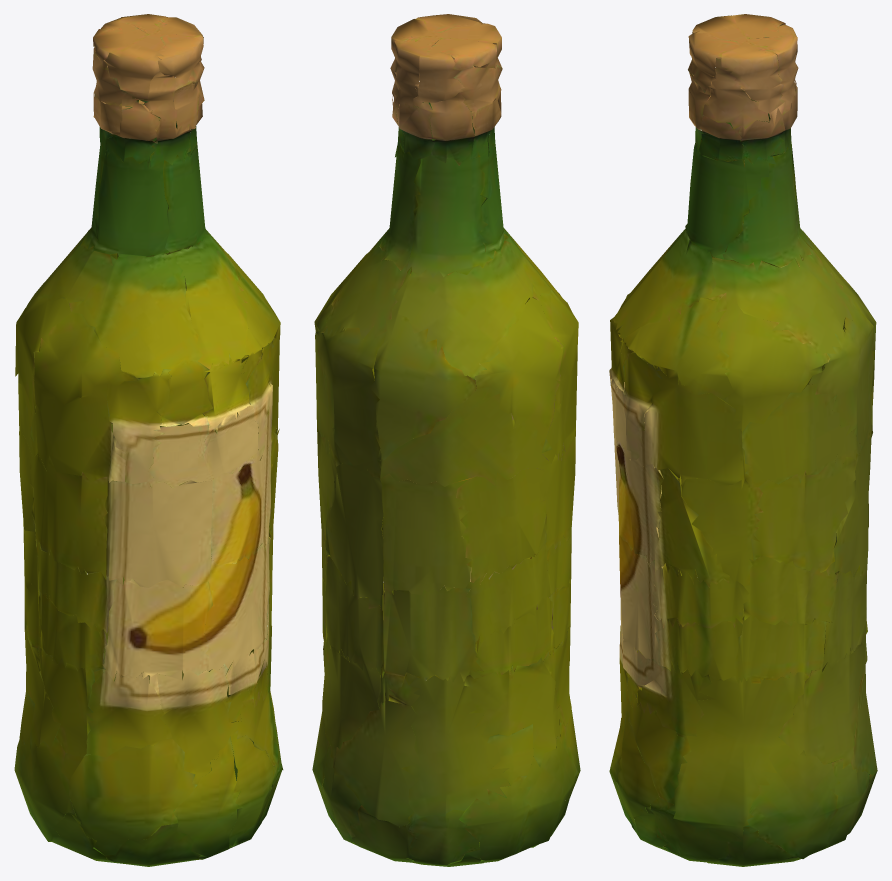
The model's file is licorbanana_otimizado.glb.
3 views of the same model, side by side, from view 1: azimuth 30°, elevation 25°; view 2: azimuth 150°, elevation 25°; view 3: azimuth 270°, elevation 25° (orthographic).
Parts seen in each view (by area): view 1: Mesh_0; view 2: Mesh_0; view 3: Mesh_0.
Part boxes in pixels (box(x1,y1,x2,y2)): Mesh_0: box(14, 14, 283, 866); Mesh_0: box(312, 14, 580, 866); Mesh_0: box(609, 14, 877, 866).
Bounding box in the file's own units: 0.5876 × 1.9 × 0.5877.
1 material, 1 textured.
